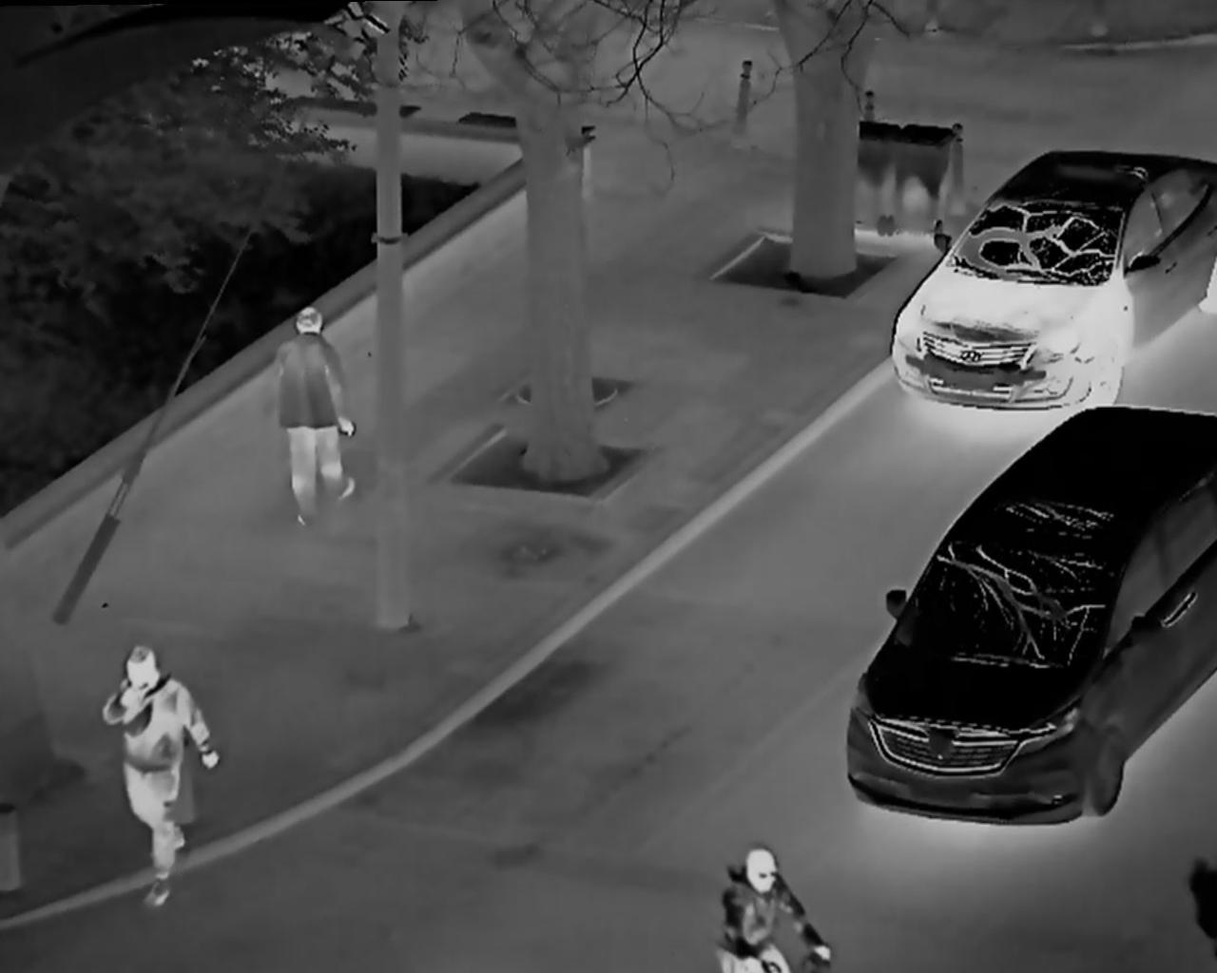person: (83, 633, 227, 914), (260, 293, 361, 544), (700, 831, 823, 973)
